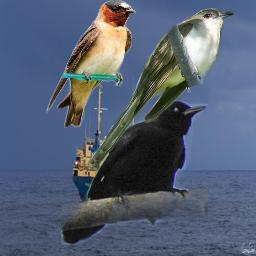Crow: (61, 101, 208, 245)
Cuckoo: (86, 7, 235, 174)
Swallow: (46, 0, 136, 128)
